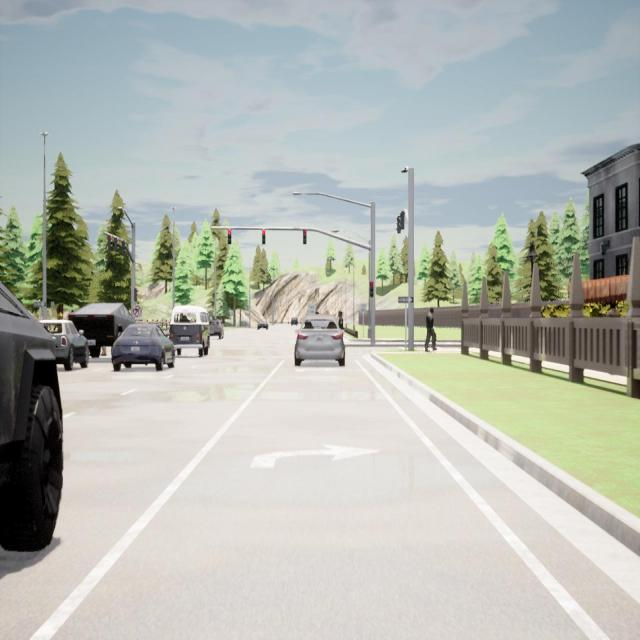Pedestrian: (424, 308, 436, 352), (337, 309, 344, 329)
Traffic_Signs: (132, 305, 142, 317), (398, 297, 414, 303), (308, 303, 316, 314), (34, 302, 46, 307), (360, 304, 366, 312), (51, 302, 54, 308)
Vehicle: (0, 281, 65, 551), (68, 301, 146, 342), (109, 324, 175, 371), (294, 314, 346, 368), (40, 318, 90, 369), (168, 305, 210, 357), (210, 317, 224, 340), (256, 320, 270, 330), (290, 315, 298, 326)
traffic_light: (369, 282, 374, 297), (114, 237, 119, 251), (396, 216, 400, 233), (262, 228, 266, 244), (108, 235, 112, 250), (401, 211, 404, 229), (134, 288, 138, 301), (122, 241, 126, 254), (228, 228, 231, 244), (304, 229, 306, 245)
